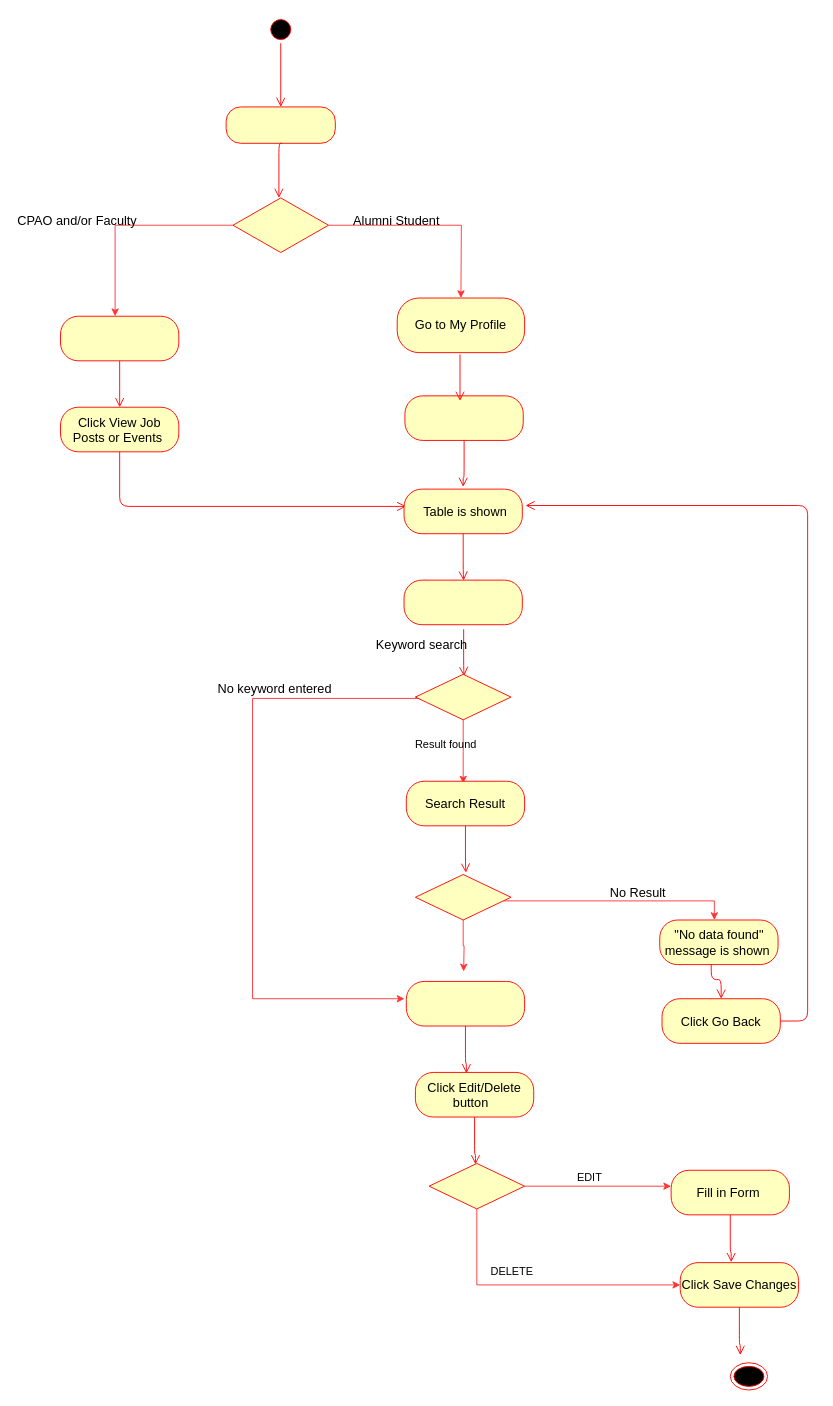
Some shapes in this 833 by 1406 pixel diagram are drawn without their labels. The shapes that lost their labels are listed below. From the top down, each one's centre as x and y in pixels, then its label:
At point (280, 124): "Go to Dashboard".
At point (119, 338): "Click View Post".
At point (463, 417): "Click My Job Post/Events".
At point (462, 602): "Enter the keyword".
At point (465, 1003): "Result Table displayed".
